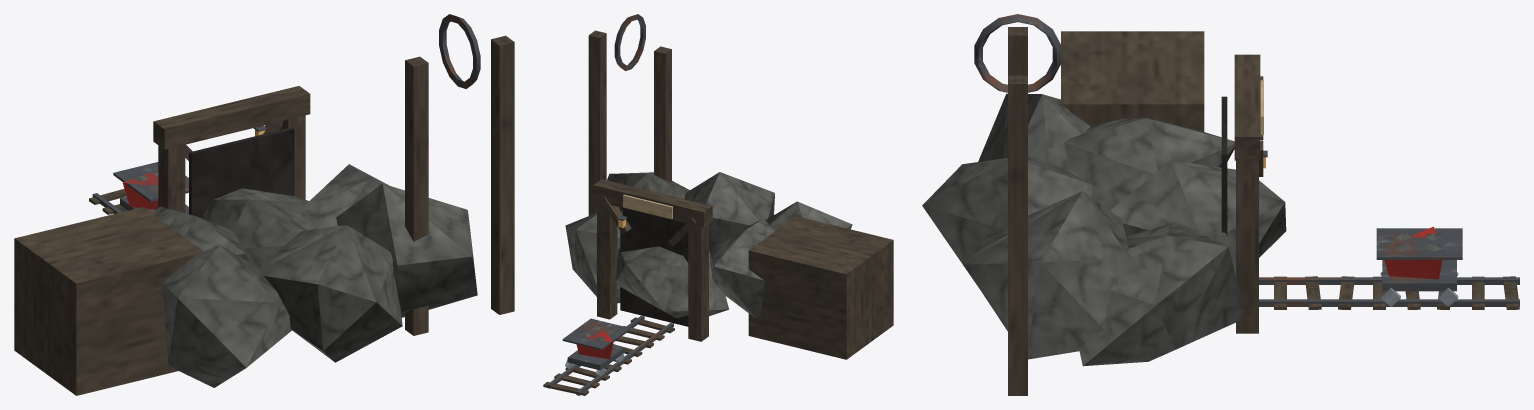
The model's file is SM_POI_LargeMine_LOD1.fbx.
3 views of the same model, side by side, from view 1: azimuth 30°, elevation 25°; view 2: azimuth 150°, elevation 25°; view 3: azimuth 270°, elevation 25° (orthographic). The views are drawn at different scales.
Visible parts, largest first — view 1: SM_POI_LargeMine_LOD1; view 2: SM_POI_LargeMine_LOD1; view 3: SM_POI_LargeMine_LOD1.
Part boxes in pixels (box(x1,y1,x2,y2)): SM_POI_LargeMine_LOD1: box(14, 14, 514, 395); SM_POI_LargeMine_LOD1: box(543, 14, 893, 395); SM_POI_LargeMine_LOD1: box(922, 14, 1519, 395).
Bounding box in the file's own units: 19.35 × 14.52 × 20.84.
Materials: 1 (1 with a texture image).
